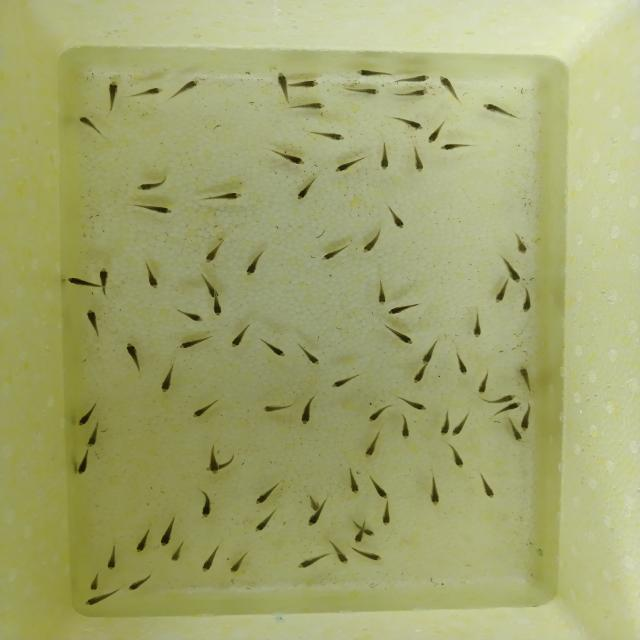fingerling: (157, 511, 180, 550), (256, 478, 283, 505), (200, 543, 224, 573), (298, 390, 318, 424), (66, 274, 100, 294), (127, 572, 157, 594), (176, 335, 212, 353), (76, 402, 100, 429), (296, 551, 328, 571), (233, 321, 255, 350), (271, 148, 306, 166), (425, 473, 444, 506), (328, 536, 351, 563), (193, 399, 221, 421), (198, 272, 220, 300), (203, 188, 246, 202), (296, 341, 320, 366), (254, 510, 280, 533), (175, 307, 208, 325), (260, 338, 288, 359), (438, 73, 459, 101), (122, 341, 143, 369), (177, 77, 206, 97), (230, 549, 252, 575), (80, 593, 118, 608), (197, 490, 216, 520), (160, 364, 180, 392), (76, 115, 102, 136), (501, 256, 522, 282), (481, 102, 513, 119), (247, 250, 267, 277), (354, 544, 384, 562), (366, 404, 390, 426), (136, 528, 156, 554), (420, 338, 439, 365), (399, 410, 416, 440), (204, 242, 226, 265), (345, 466, 363, 494), (368, 473, 388, 498), (74, 450, 94, 475), (446, 441, 465, 467), (390, 328, 416, 347), (365, 432, 383, 459), (496, 277, 514, 304), (478, 476, 498, 500), (409, 361, 429, 385), (100, 266, 115, 298), (398, 397, 428, 413), (84, 307, 101, 335), (455, 412, 473, 438), (467, 309, 483, 338), (410, 149, 427, 176), (296, 179, 315, 203), (503, 418, 522, 442), (378, 498, 394, 525), (516, 362, 533, 387), (439, 410, 454, 438), (170, 541, 190, 562), (317, 248, 343, 264), (87, 423, 103, 449), (389, 207, 407, 230), (334, 160, 363, 174), (104, 78, 118, 107), (334, 374, 361, 389), (491, 401, 522, 414), (146, 265, 162, 290), (427, 124, 447, 144), (395, 118, 425, 131), (360, 234, 380, 253), (395, 73, 433, 83), (386, 305, 415, 318), (395, 88, 429, 99), (134, 181, 165, 193), (277, 71, 289, 101), (456, 352, 471, 376), (305, 511, 326, 528), (486, 393, 518, 404), (140, 205, 174, 215), (441, 144, 475, 154), (85, 571, 102, 591), (105, 544, 119, 568), (478, 367, 491, 392), (263, 404, 295, 414), (512, 236, 528, 256), (319, 132, 345, 144), (379, 146, 392, 170), (342, 88, 380, 96), (520, 293, 535, 313), (208, 449, 220, 474), (306, 493, 322, 511), (522, 408, 535, 430), (290, 101, 324, 109), (210, 300, 227, 316), (139, 85, 165, 95), (355, 69, 388, 76), (377, 282, 386, 307), (290, 81, 322, 88), (353, 524, 363, 545), (362, 529, 380, 537)
